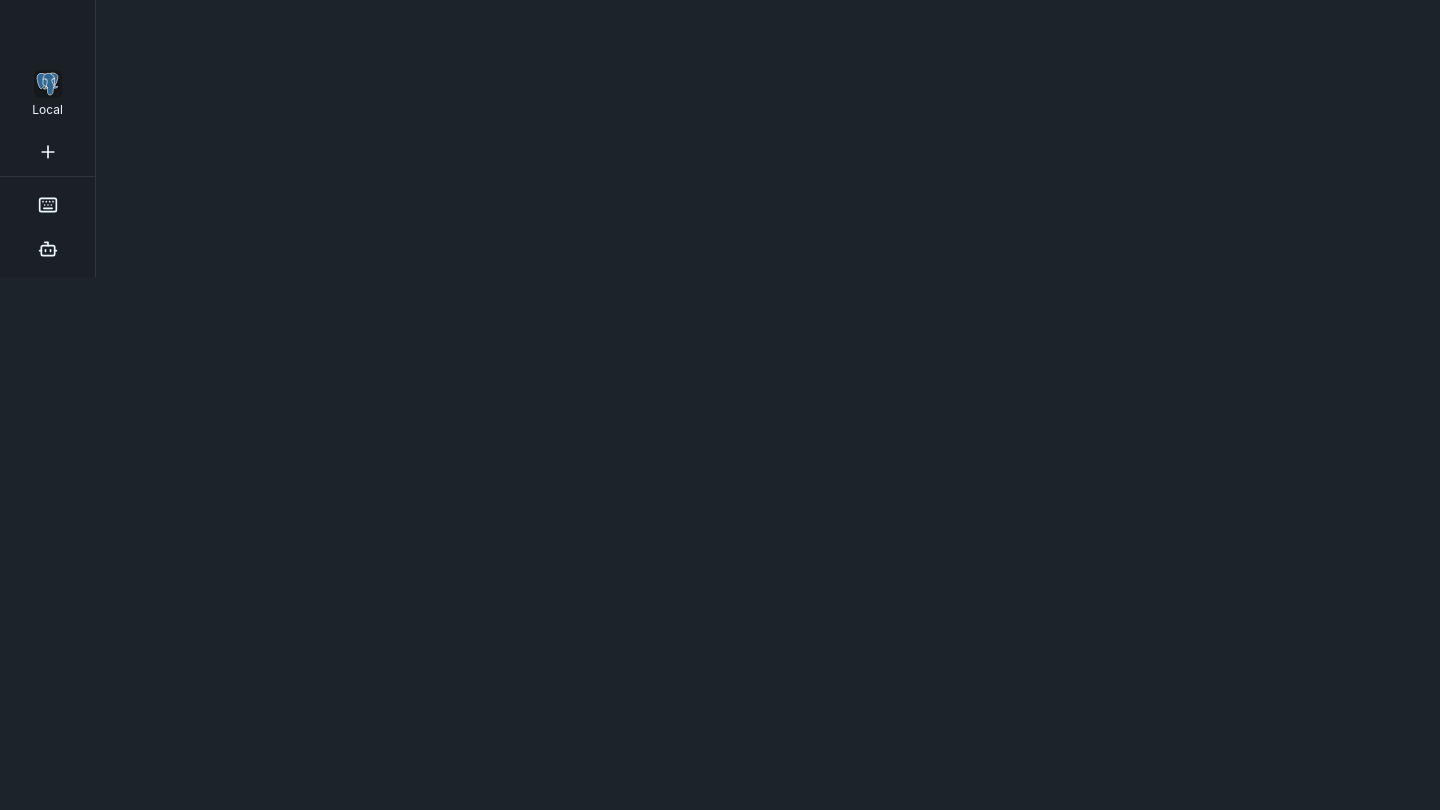
it: the connection rail › reports how long a test took, in a toast
This screenshot has width=1440, height=810.
Click the button "Local" at (48, 94), box [8,56,87,132]
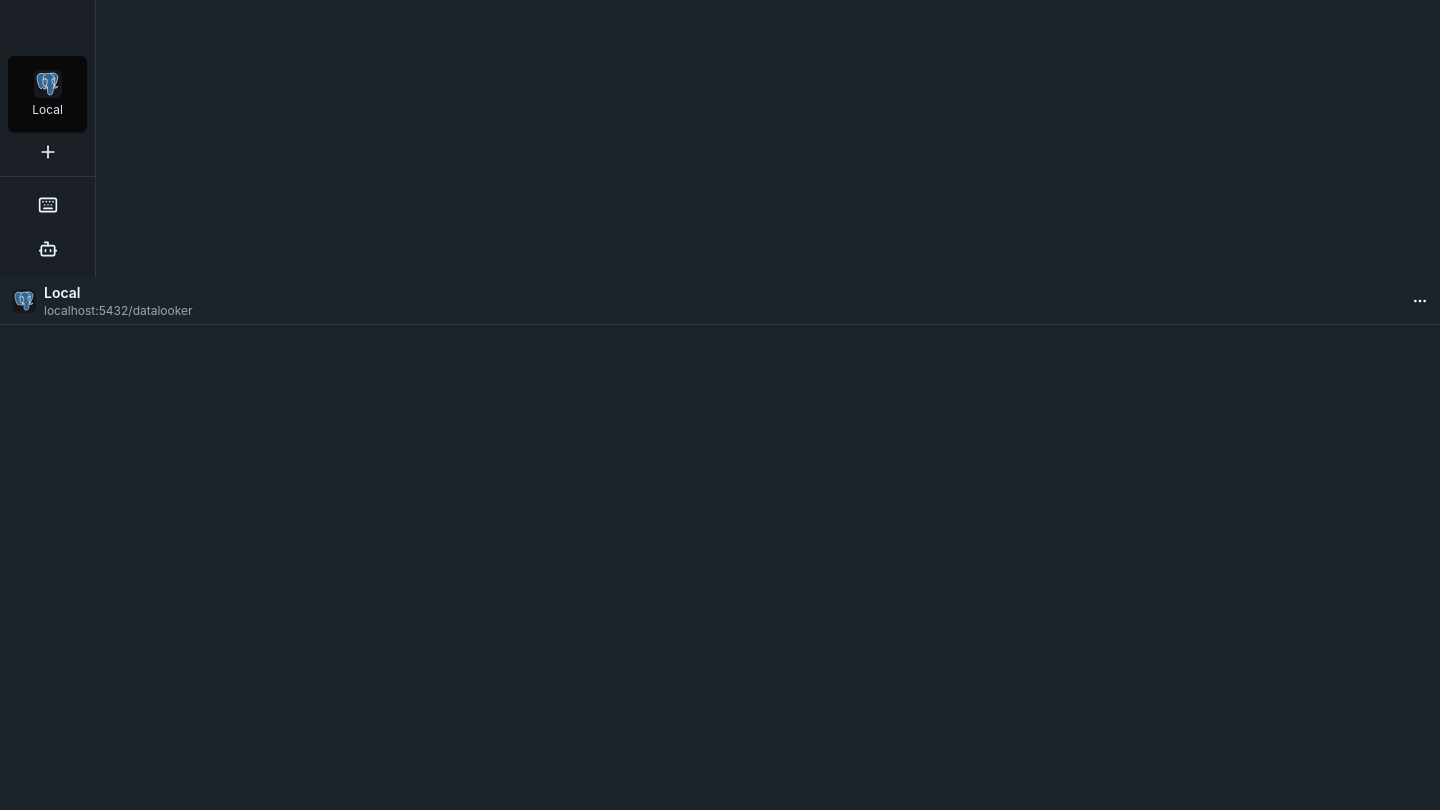
Click the button named "Local actions" at (1420, 300), box [1408,288,1432,312]
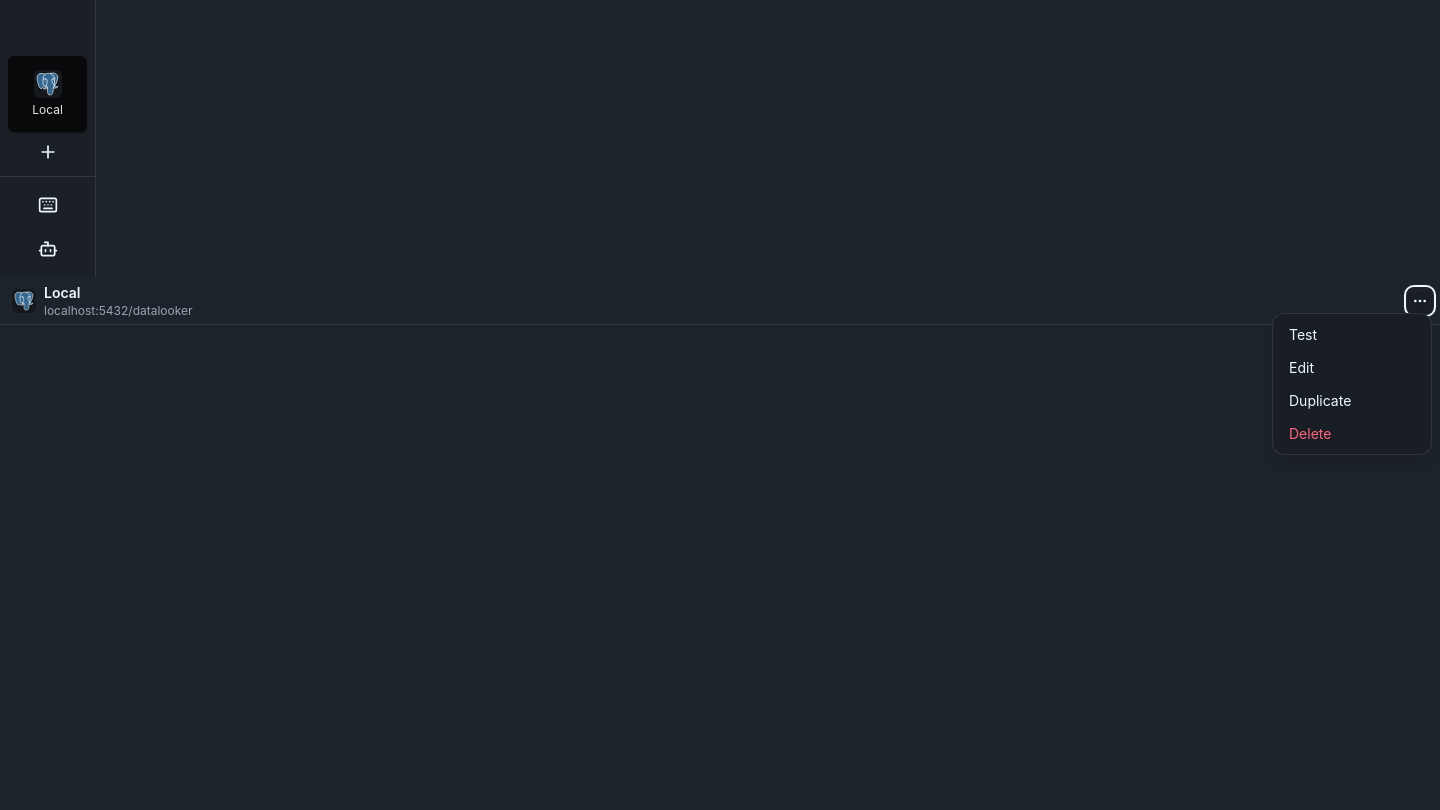
Click the button "Test" at (1352, 334), box [1277,318,1427,350]
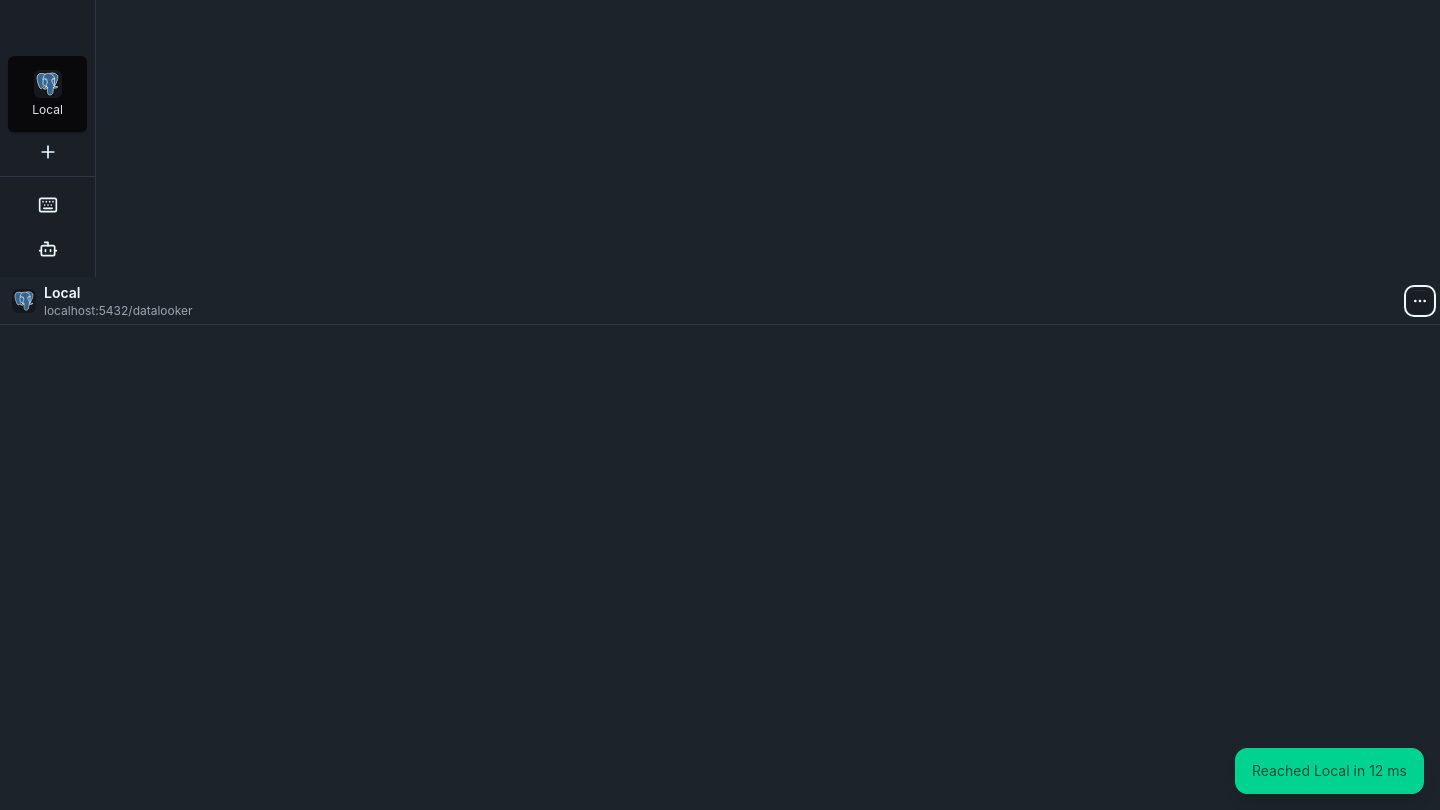
Now the text "Reached Local in 12 ms" is shown, box [1252,761,1407,781]
